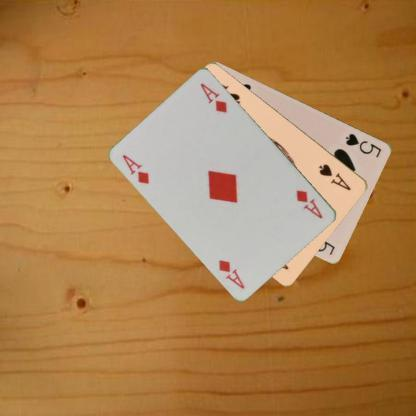5s: (343, 130, 383, 159)
Ad: (294, 186, 324, 220), (120, 152, 150, 186)
As: (316, 161, 352, 192)
